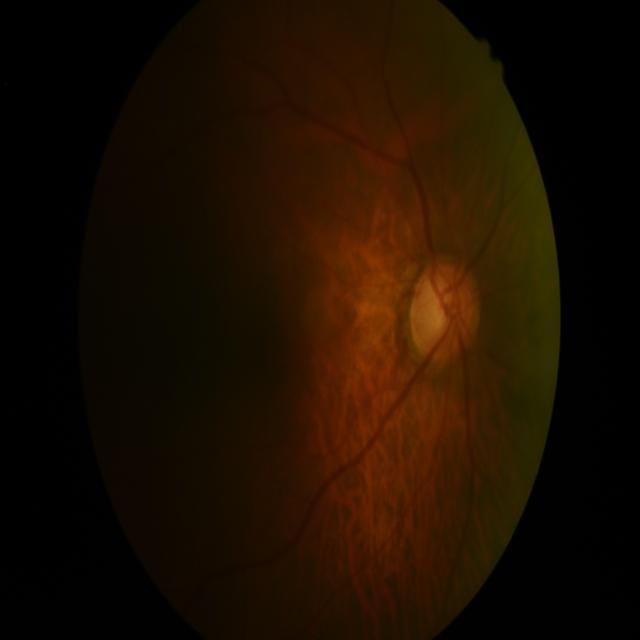cup: (418, 276, 462, 349)
disk: (408, 256, 474, 367)
